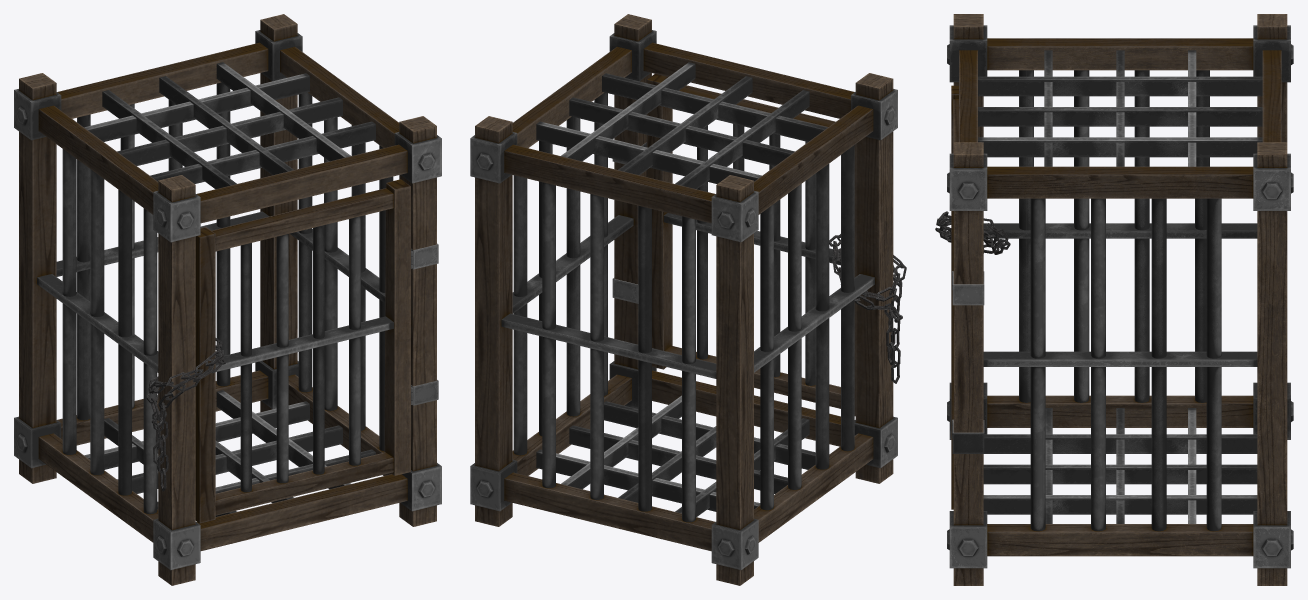
File: cage_wooden_03.fbx
3 renders of one model, left to right at view 1: azimuth 30°, elevation 25°; view 2: azimuth 150°, elevation 25°; view 3: azimuth 270°, elevation 25°, orthographic. The views are drawn at different scales.
Parts seen in each view (by area): view 1: cage_wooden_03, cage_wooden_03_door, cage_wooden_03_chainLock; view 2: cage_wooden_03, cage_wooden_03_door, cage_wooden_03_chainLock; view 3: cage_wooden_03, cage_wooden_03_door, cage_wooden_03_chainLock.
Boxes of the visible parts, x1,y1,x2,y2 form: cage_wooden_03: [14, 14, 441, 585]; cage_wooden_03_door: [195, 179, 412, 523]; cage_wooden_03_chainLock: [146, 338, 225, 491]; cage_wooden_03: [470, 14, 897, 585]; cage_wooden_03_door: [646, 74, 855, 416]; cage_wooden_03_chainLock: [829, 234, 906, 383]; cage_wooden_03: [947, 14, 1293, 585]; cage_wooden_03_door: [951, 85, 958, 509]; cage_wooden_03_chainLock: [935, 211, 1010, 254].
Size of the model in its own units: 199 by 265 by 200.
